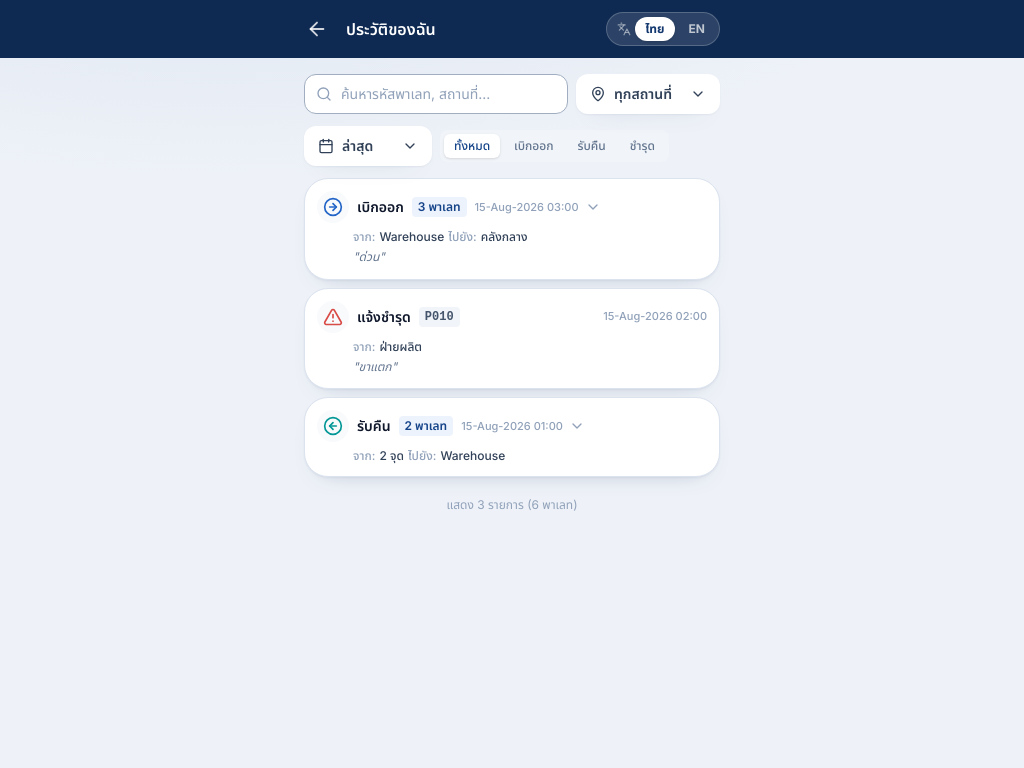
Test: MobileHistory -- การจัดกลุ่มเป็นชุด › กางชุดที่มาจากหลายจุดแล้วต้องบอกได้ว่าพาเลทใบไหนมาจากไหน
The image size is (1024, 768).
Click the button "2 จุด": click(333, 426) [317,410,707,464]
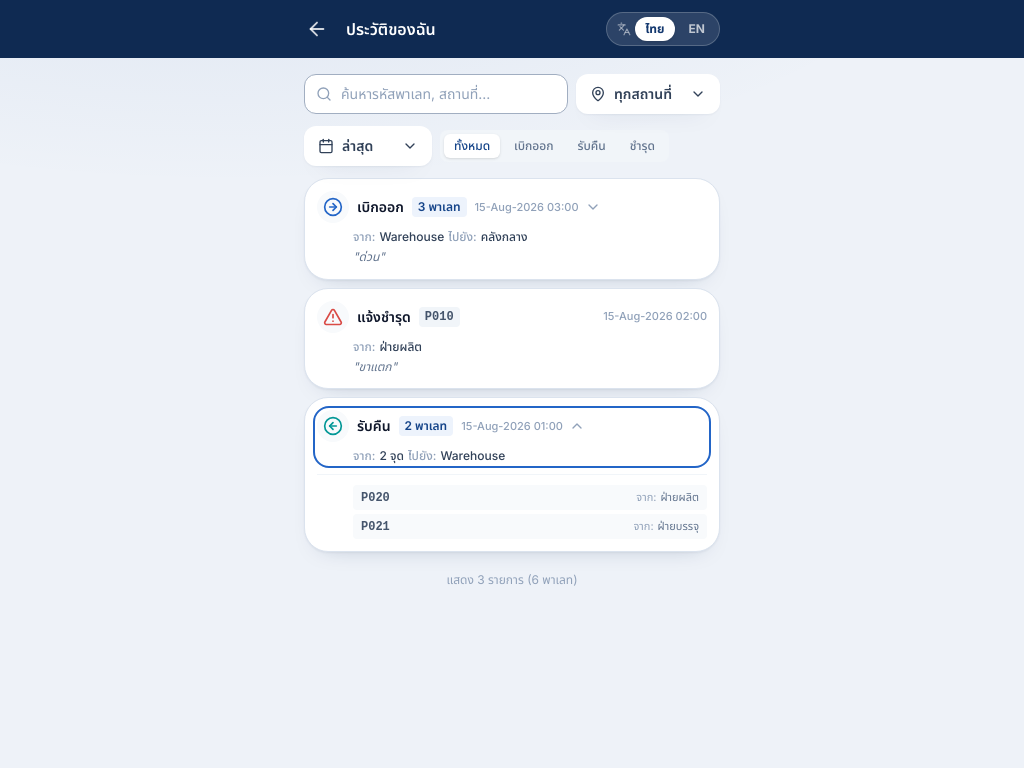
expect the list items read "P020จาก:ฝ่ายผลิต", "P021จาก:ฝ่ายบรรจุ", in this order: met, box [353,485,707,510]; [353,514,707,539]
